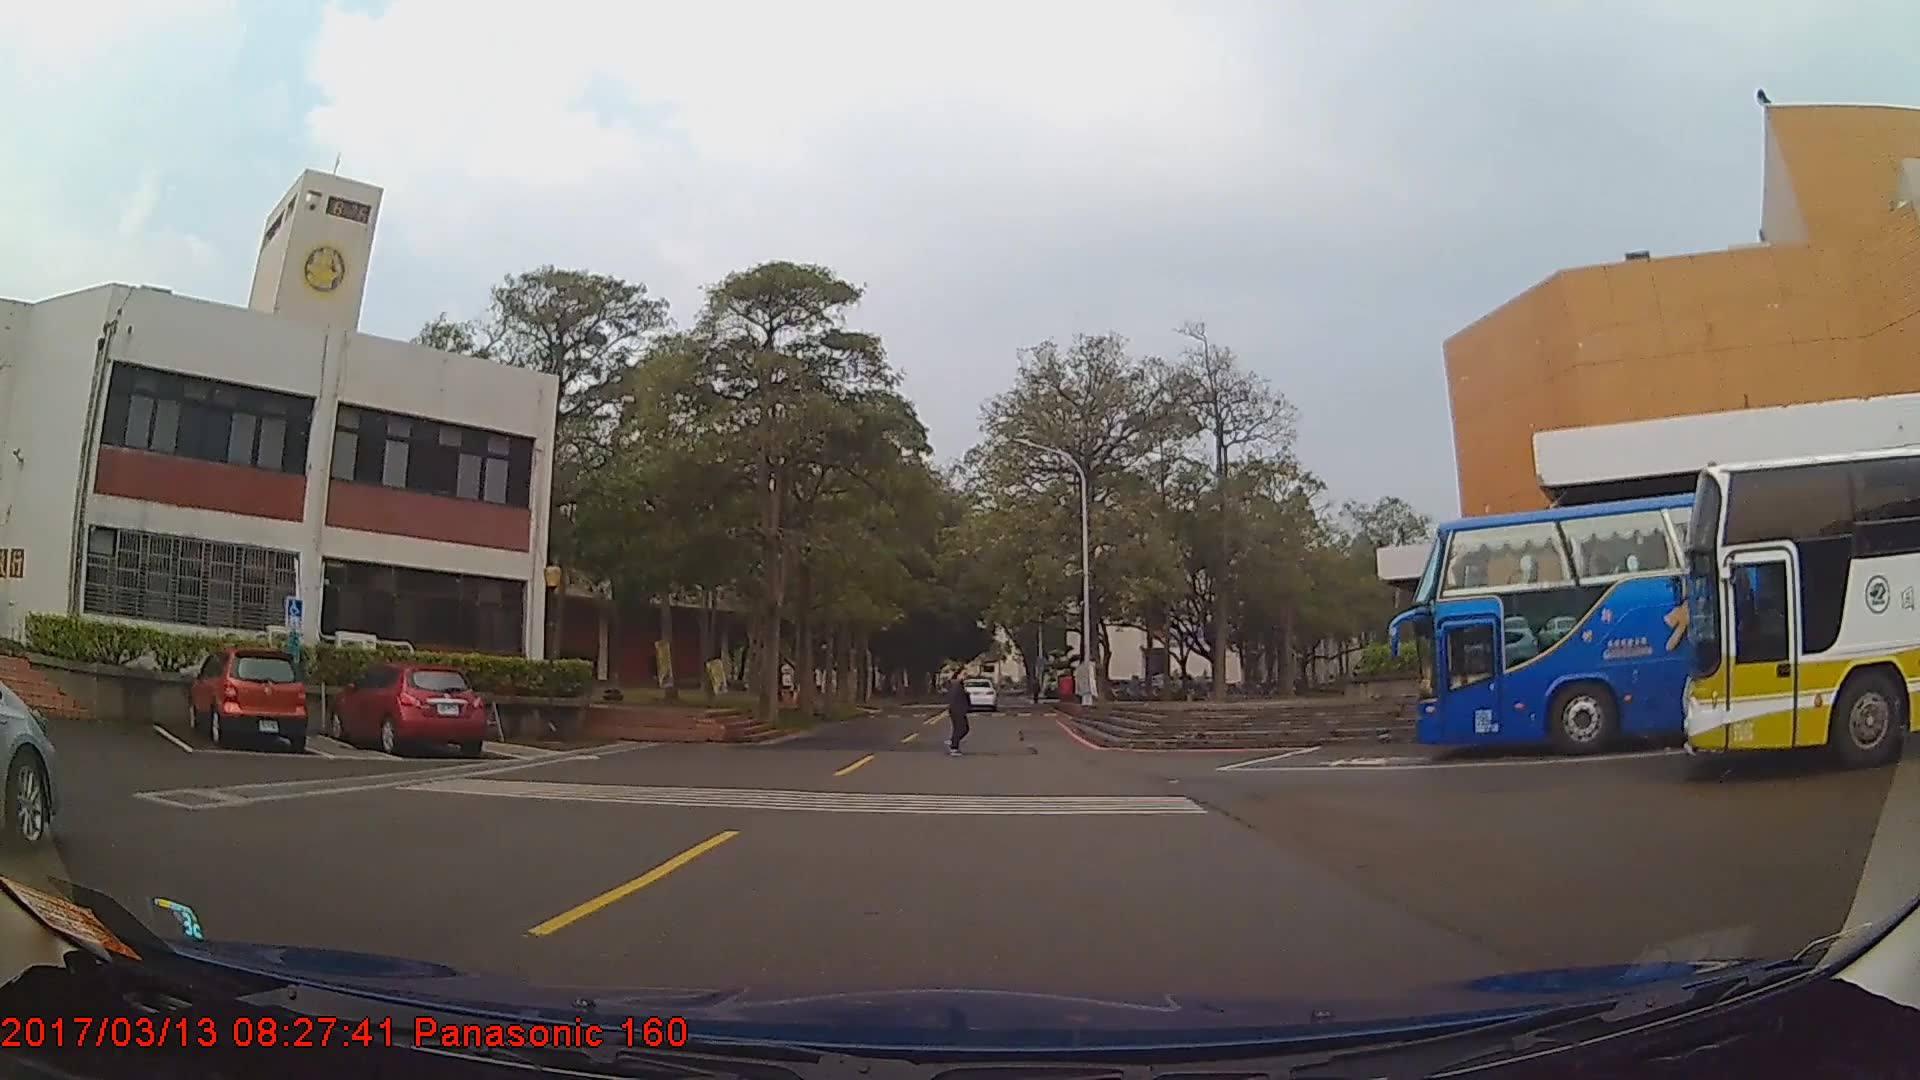pedestrian: (938, 664, 980, 756)
vehicle: (1417, 467, 1920, 756), (1684, 439, 1920, 770), (327, 663, 485, 755), (185, 646, 308, 754), (957, 676, 998, 710)
